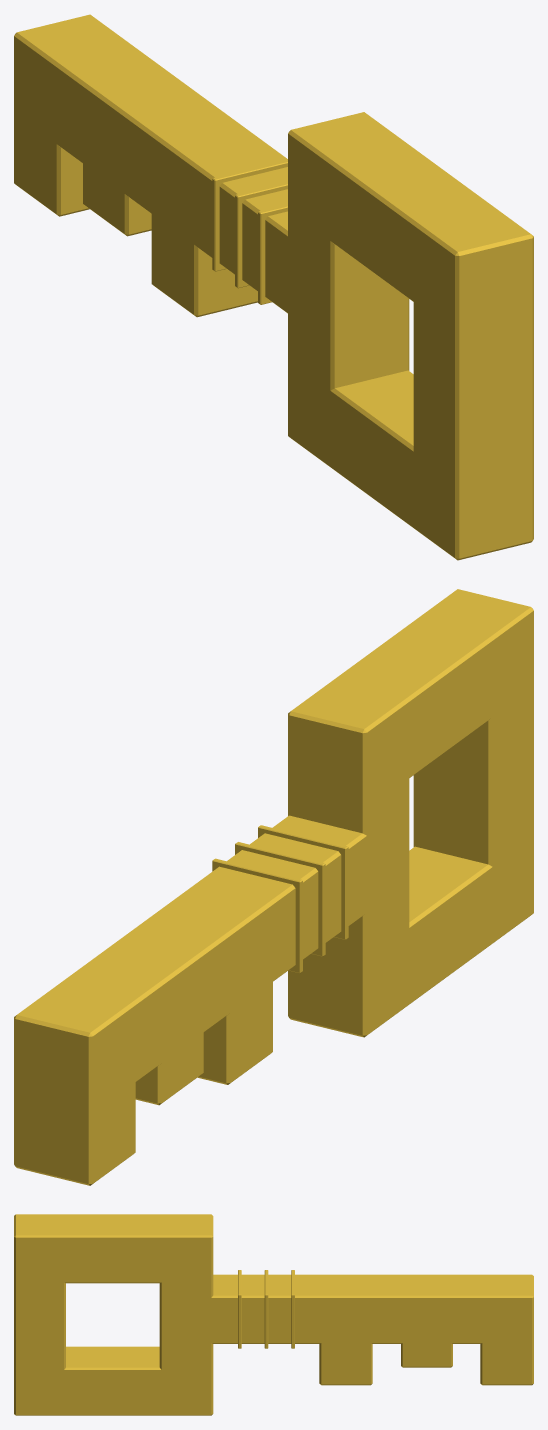
The model's file is TCOBO key.fbx.
3 renders of one model, top to bottom at view 1: azimuth 30°, elevation 25°; view 2: azimuth 150°, elevation 25°; view 3: azimuth 270°, elevation 25°, orthographic. The views are drawn at different scales.
Visible parts, largest first — view 1: Cube; view 2: Cube; view 3: Cube.
Part boxes in pixels (box(x1,y1,x2,y2)): Cube: box(14, 14, 533, 560); Cube: box(14, 589, 533, 1185); Cube: box(14, 1214, 533, 1415).
Size of the model in its own units: 2.23 by 7.46 by 19.47.
